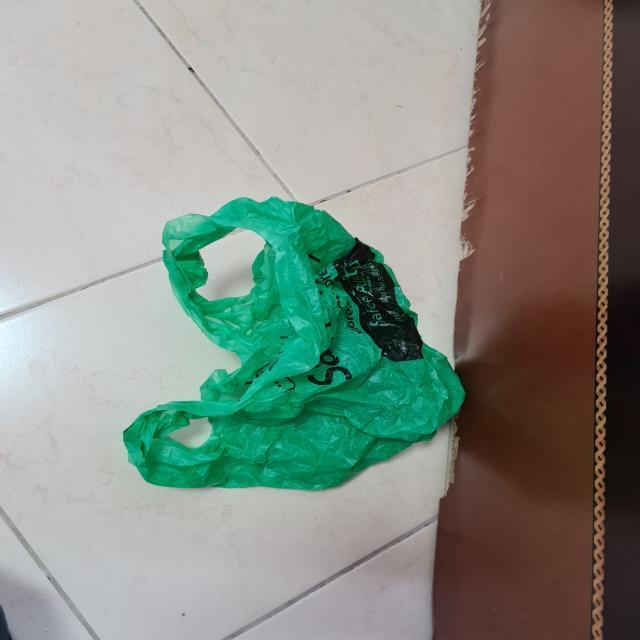Plastic_Bag: (133, 192, 464, 490)
